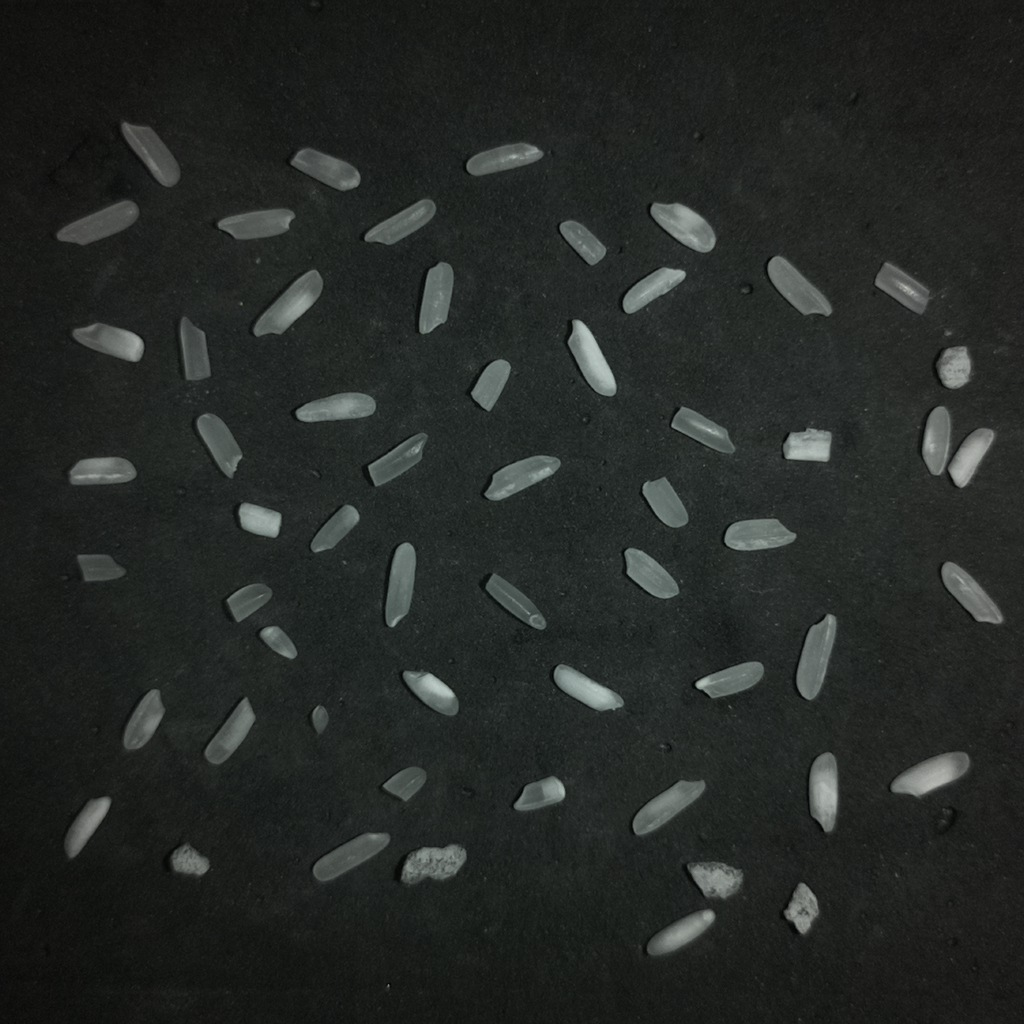broken: (485, 573, 545, 629), (364, 198, 435, 244), (367, 433, 427, 485), (290, 147, 360, 190), (196, 413, 241, 478), (671, 407, 734, 453), (71, 322, 144, 361), (874, 262, 929, 313), (624, 548, 678, 598), (122, 688, 164, 750), (418, 261, 453, 334), (694, 661, 764, 697), (217, 208, 294, 239), (311, 504, 359, 552), (642, 477, 688, 527), (724, 518, 795, 550), (559, 220, 605, 265), (471, 359, 510, 411), (179, 317, 210, 380), (513, 776, 565, 811), (225, 583, 271, 621), (381, 766, 426, 801), (76, 554, 125, 581), (259, 625, 296, 659), (310, 705, 328, 734)
chalky: (567, 319, 616, 396), (889, 751, 969, 797), (650, 203, 715, 253), (553, 664, 623, 710), (646, 909, 715, 955), (622, 267, 685, 313), (64, 796, 110, 858), (948, 428, 994, 487), (402, 671, 458, 715), (808, 752, 837, 832), (295, 392, 375, 421), (68, 457, 136, 485), (783, 428, 830, 461), (237, 502, 281, 537), (936, 346, 971, 389)
foreign: (400, 844, 465, 884), (686, 862, 743, 898), (783, 883, 818, 934), (168, 843, 209, 876)
whole: (252, 269, 322, 336), (632, 780, 705, 835), (941, 561, 1003, 623), (767, 256, 831, 315), (56, 200, 139, 245), (121, 122, 179, 186), (312, 833, 389, 881), (796, 613, 836, 700), (204, 698, 255, 766), (485, 456, 560, 500), (384, 542, 416, 626), (466, 142, 543, 175), (921, 406, 952, 476)
